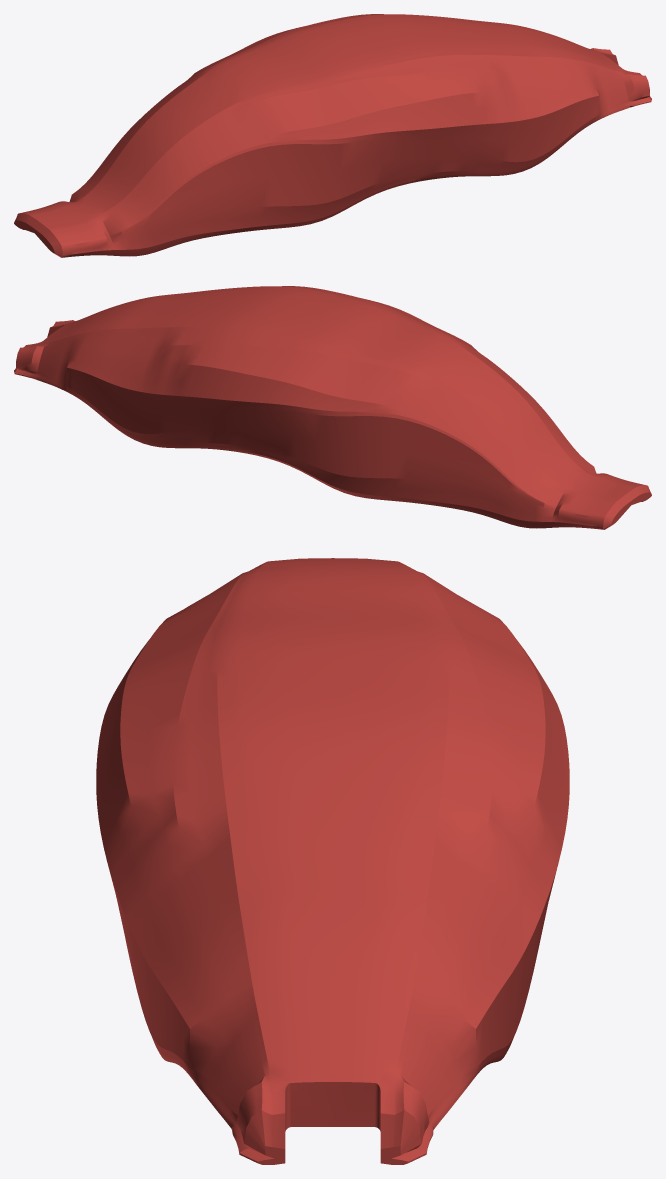
The model's file is sports_tourer_4_lod1.glb.
The picture shows the model from 3 angles, top to bottom: view 1: azimuth 30°, elevation 25°; view 2: azimuth 150°, elevation 25°; view 3: azimuth 270°, elevation 25°; orthographic projection. The views are drawn at different scales.
Parts seen in each view (by area): view 1: sports_tourer_4_lod1; view 2: sports_tourer_4_lod1; view 3: sports_tourer_4_lod1.
Boxes of the visible parts, x1,y1,x2,y2 form: sports_tourer_4_lod1: (14, 14, 651, 257); sports_tourer_4_lod1: (14, 286, 651, 529); sports_tourer_4_lod1: (96, 558, 569, 1164).
Size of the model in its own units: 1.29 by 0.2796 by 0.4403.
